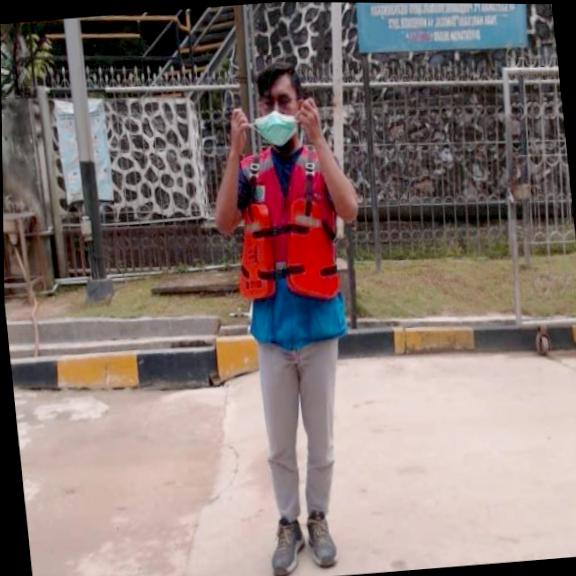safety_vest: (223, 193, 347, 312)
